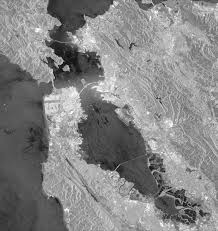anomaly: (31, 30, 214, 216)
